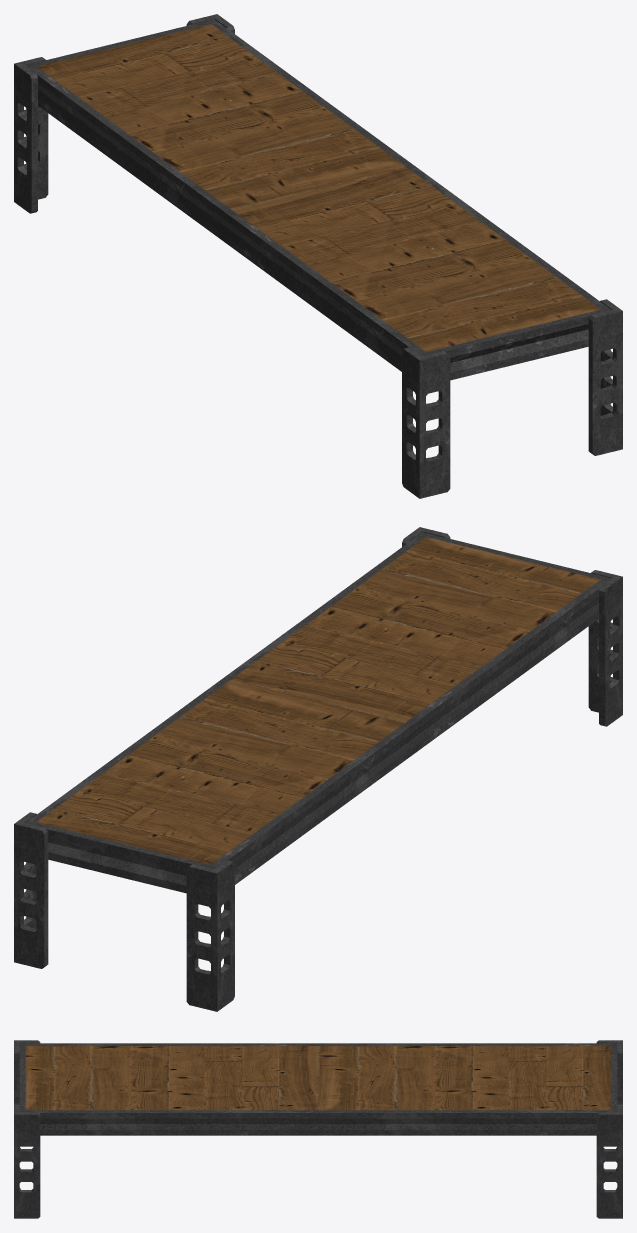
File: Shelf.fbx
3 views of the same model, one above another, from view 1: azimuth 30°, elevation 25°; view 2: azimuth 150°, elevation 25°; view 3: azimuth 270°, elevation 25° (orthographic). The views are drawn at different scales.
Parts seen in each view (by area): view 1: Shelf_Holder.003, Shelf_Support.003; view 2: Shelf_Holder.003, Shelf_Support.003; view 3: Shelf_Holder.003, Shelf_Support.003.
Part boxes in pixels (x1,y1,x2,y2): Shelf_Holder.003: (25,19,611,380); Shelf_Support.003: (14,14,622,498); Shelf_Holder.003: (25,532,611,893); Shelf_Support.003: (14,527,622,1011); Shelf_Holder.003: (19,1043,617,1135); Shelf_Support.003: (14,1040,622,1218).
Size of the model in its own units: 204 by 38.33 by 58.94.
